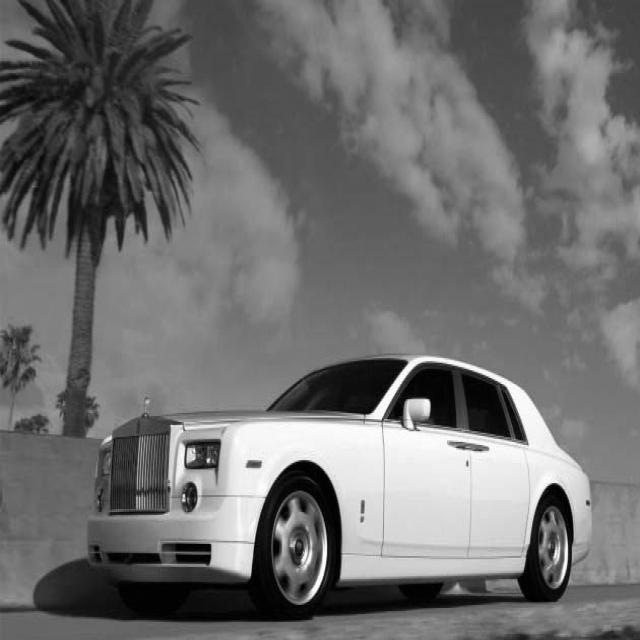car: (86, 352, 594, 619)
